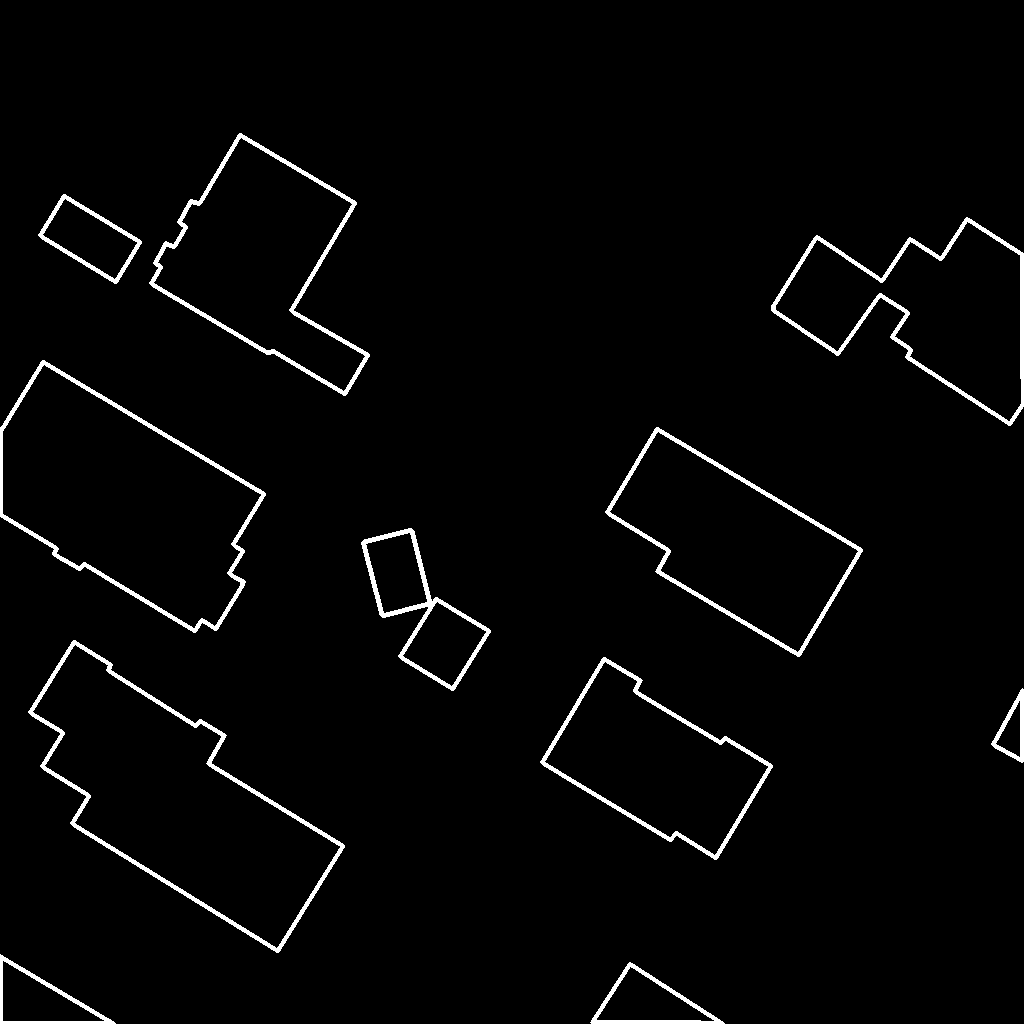building: (30, 642, 344, 952), (0, 362, 265, 632), (607, 429, 862, 656), (151, 135, 369, 395), (772, 219, 1024, 425), (542, 659, 772, 859), (40, 196, 141, 283), (400, 599, 490, 690), (592, 964, 724, 1024), (0, 956, 115, 1024), (363, 530, 431, 617), (993, 690, 1024, 762)
